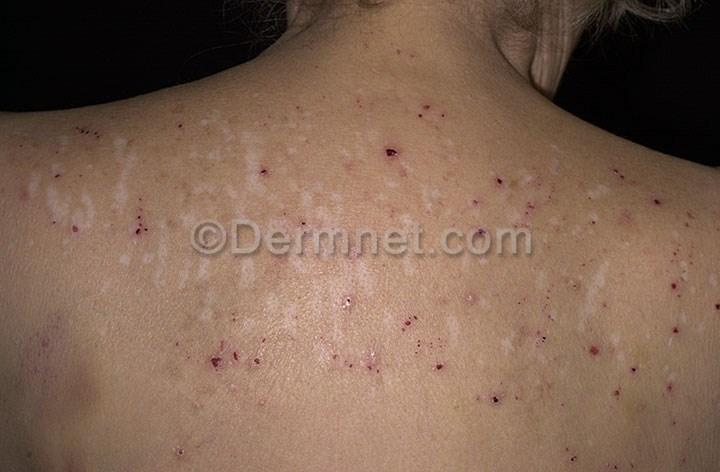Eczema: (474, 362, 561, 432), (103, 181, 161, 270), (504, 270, 564, 356), (13, 309, 83, 378), (495, 165, 559, 239), (602, 160, 672, 227), (568, 249, 633, 318), (161, 162, 217, 240), (0, 140, 57, 215), (356, 125, 422, 189), (239, 339, 294, 414), (305, 331, 359, 405), (194, 298, 280, 343), (652, 236, 709, 302), (187, 331, 251, 388), (645, 363, 699, 430), (538, 415, 598, 472), (346, 335, 397, 401), (0, 436, 91, 472), (604, 344, 647, 420), (372, 27, 439, 75), (46, 198, 101, 255), (442, 272, 500, 326), (336, 272, 392, 327), (163, 420, 223, 471), (399, 338, 454, 393), (562, 332, 613, 391), (291, 71, 351, 121), (277, 203, 333, 255), (452, 175, 504, 230), (667, 188, 716, 244), (60, 106, 115, 154), (262, 95, 316, 143), (653, 308, 698, 363), (194, 149, 238, 205), (340, 76, 394, 119), (402, 89, 455, 127), (373, 195, 420, 236), (54, 153, 97, 193), (392, 295, 431, 338), (569, 203, 606, 246), (156, 319, 190, 361), (155, 111, 192, 146), (603, 442, 645, 472), (668, 442, 707, 472), (700, 280, 720, 337), (252, 159, 285, 191)
